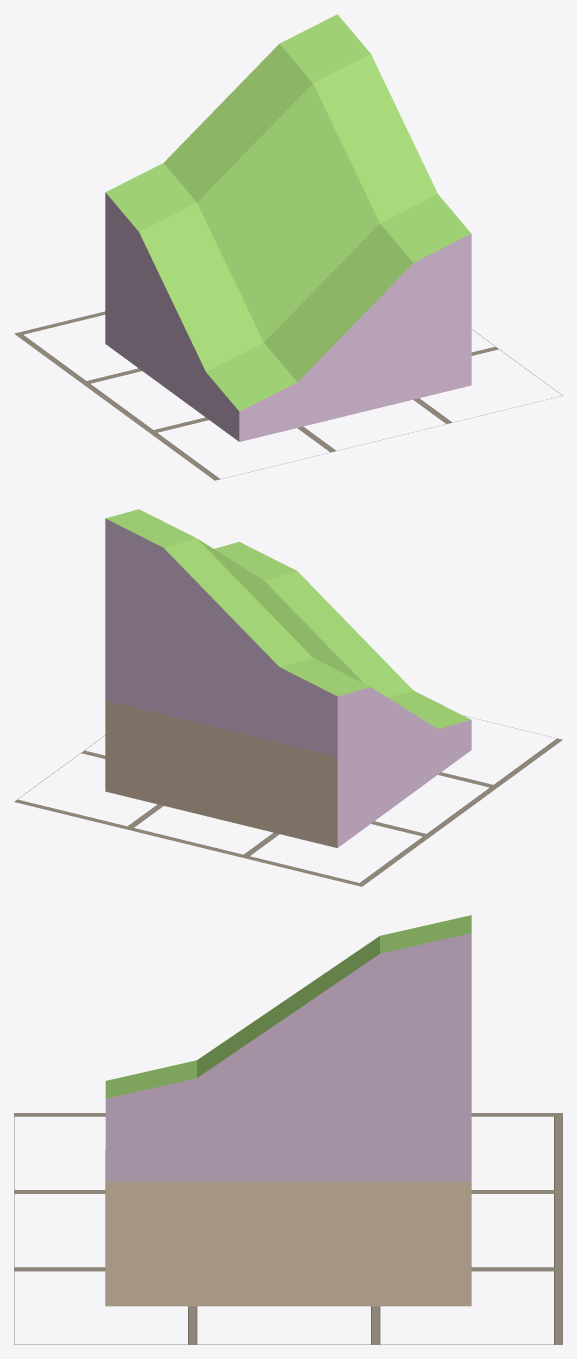
The model's file is Grass_Hill_Sharp_Overlapping_Sharp_2x2.glb.
3 renders of one model, top to bottom at view 1: azimuth 30°, elevation 25°; view 2: azimuth 150°, elevation 25°; view 3: azimuth 270°, elevation 25°, orthographic. The views are drawn at different scales.
Parts seen in each view (by area): view 1: Grass_Hill_Sharp_Overlapping_Sharp_2x2, Floor; view 2: Grass_Hill_Sharp_Overlapping_Sharp_2x2, Floor; view 3: Grass_Hill_Sharp_Overlapping_Sharp_2x2, Floor.
Part boxes in pixels (x1,y1,x2,y2): Grass_Hill_Sharp_Overlapping_Sharp_2x2: (105, 14, 471, 441); Floor: (14, 311, 562, 480); Grass_Hill_Sharp_Overlapping_Sharp_2x2: (105, 509, 471, 847); Floor: (14, 715, 562, 886); Grass_Hill_Sharp_Overlapping_Sharp_2x2: (105, 915, 471, 1306); Floor: (14, 1113, 562, 1344).
Size of the model in its own units: 300 by 225 by 300.
Materials: 5 (1 with a texture image).
